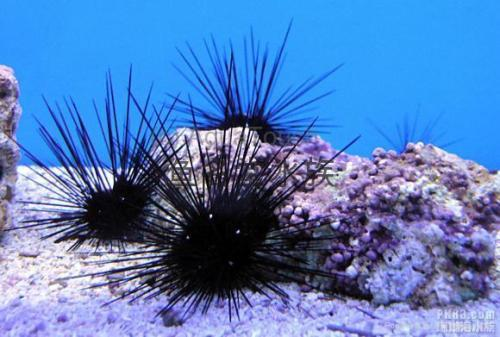urchin: (157, 125, 351, 308), (30, 87, 153, 259), (162, 32, 336, 144)
